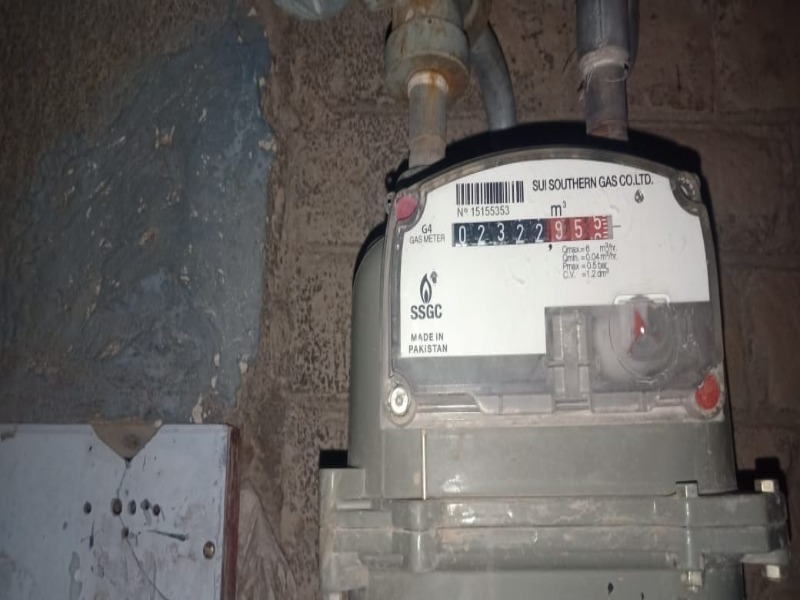ssgc: (448, 214, 617, 246)
